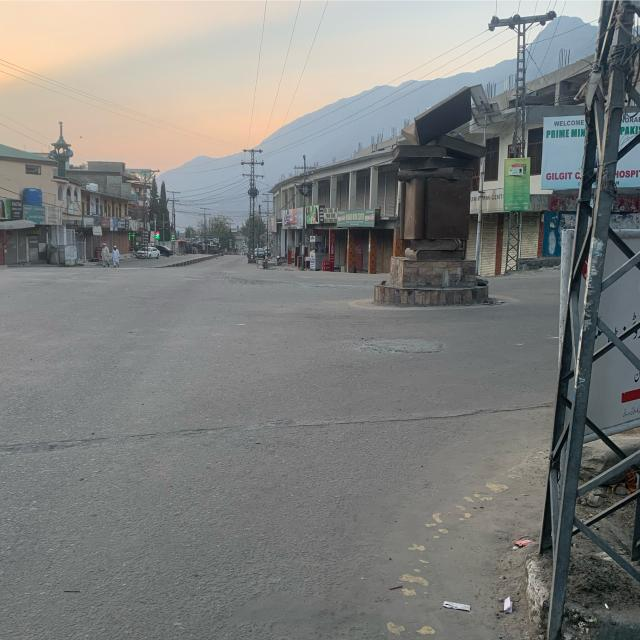Right-Turn: (158, 307, 497, 557)
straight: (0, 260, 214, 473)
